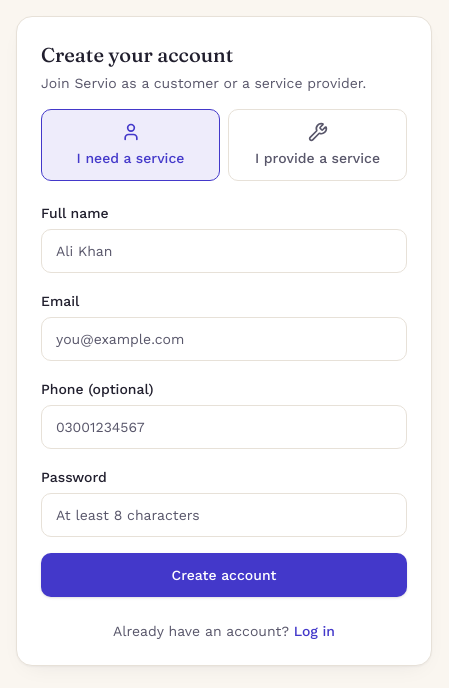
Test: RegisterPage › validates required fields
The image size is (449, 688).
Click the button "Create account": (224, 575) [41, 553, 407, 597]
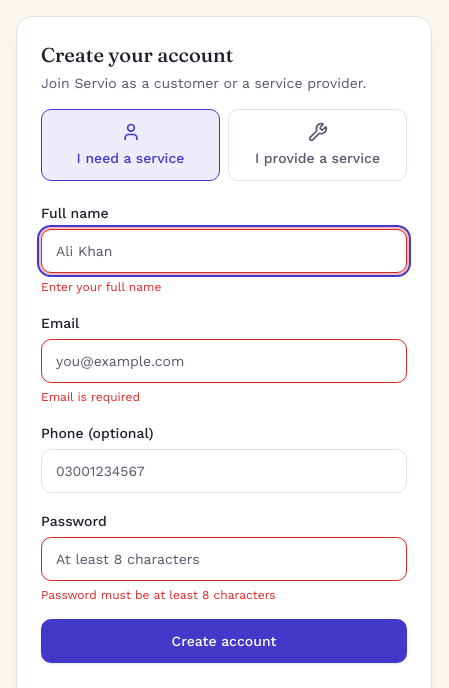
expect the text "Enter your full name" is shown: met, box [41, 280, 161, 294]
expect the text "Password must be at least 8 characters" is shown: met, box [41, 588, 276, 602]
